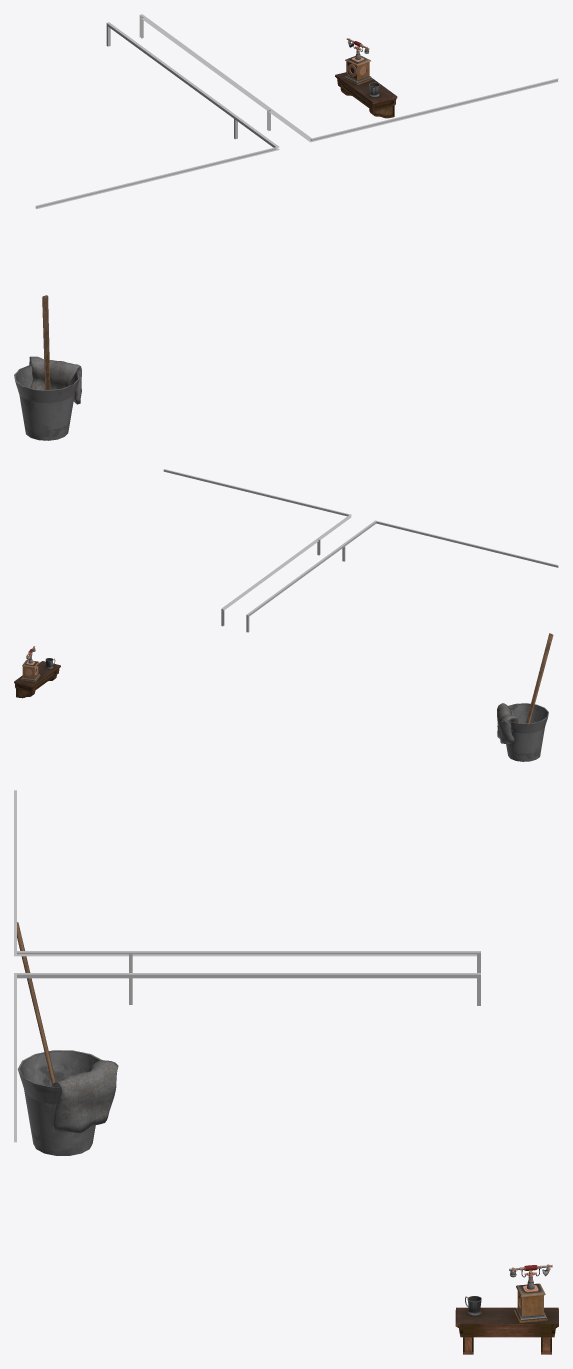
3 renders of one model, top to bottom at view 1: azimuth 30°, elevation 25°; view 2: azimuth 150°, elevation 25°; view 3: azimuth 270°, elevation 25°, orthographic. The views are drawn at different scales.
Parts seen in each view (by area): view 1: Cube.077, Cylinder.031, Cube.078, Cube.080, Cube.081, Cube.079; view 2: Cube.077, Cylinder.031, Cube.080, Cube.078, Cube.079, Cube.081; view 3: Cube.077, Cylinder.031, Cube.078, Cube.080, Cube.081, Cube.079.
Part boxes in pixels (bbox=[...]): Cube.077: bbox=[35, 14, 558, 209]; Cylinder.031: bbox=[14, 365, 79, 440]; Cube.078: bbox=[29, 356, 81, 404]; Cube.080: bbox=[335, 72, 397, 118]; Cube.081: bbox=[343, 38, 372, 85]; Cube.079: bbox=[42, 295, 50, 390]; Cube.077: bbox=[163, 469, 558, 632]; Cylinder.031: bbox=[506, 703, 548, 761]; Cube.080: bbox=[14, 661, 60, 698]; Cube.078: bbox=[497, 703, 518, 743]; Cube.079: bbox=[526, 633, 553, 723]; Cube.081: bbox=[20, 646, 40, 682]; Cube.077: bbox=[14, 790, 480, 1142]; Cylinder.031: bbox=[17, 1050, 102, 1155]; Cube.078: bbox=[52, 1060, 118, 1133]; Cube.080: bbox=[455, 1307, 558, 1354]; Cube.081: bbox=[509, 1264, 552, 1322]; Cube.079: bbox=[17, 922, 55, 1085].
Bounding box in the file's own units: 700 × 314 × 463.
